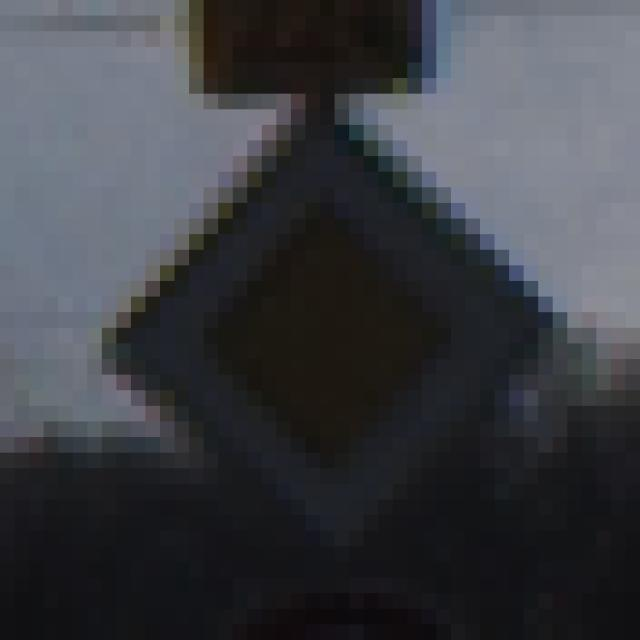Main Road: (89, 79, 569, 563)
